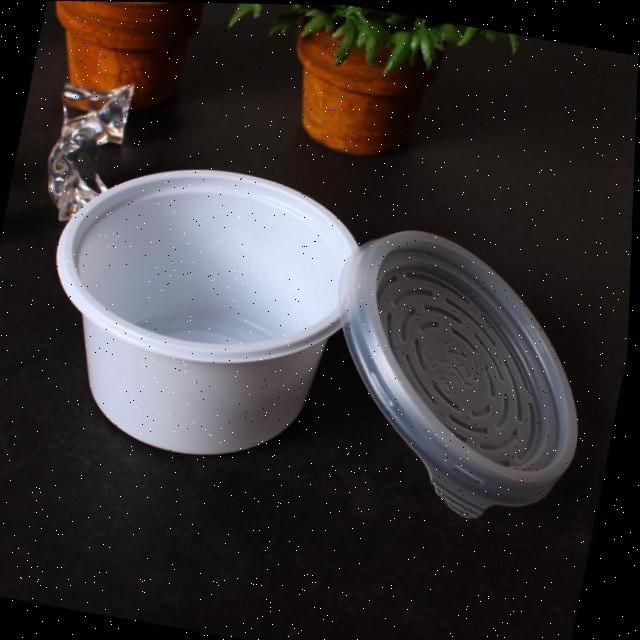disposable: (42, 151, 391, 445)
